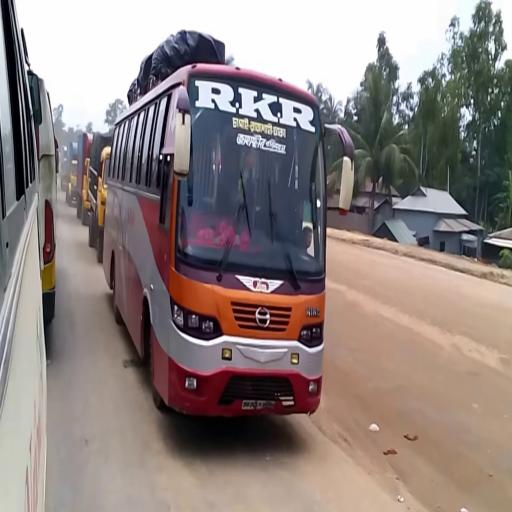bus: (101, 27, 334, 423), (2, 1, 47, 511), (27, 65, 61, 329)
truck: (87, 130, 112, 267), (77, 131, 92, 227), (67, 141, 78, 209)
